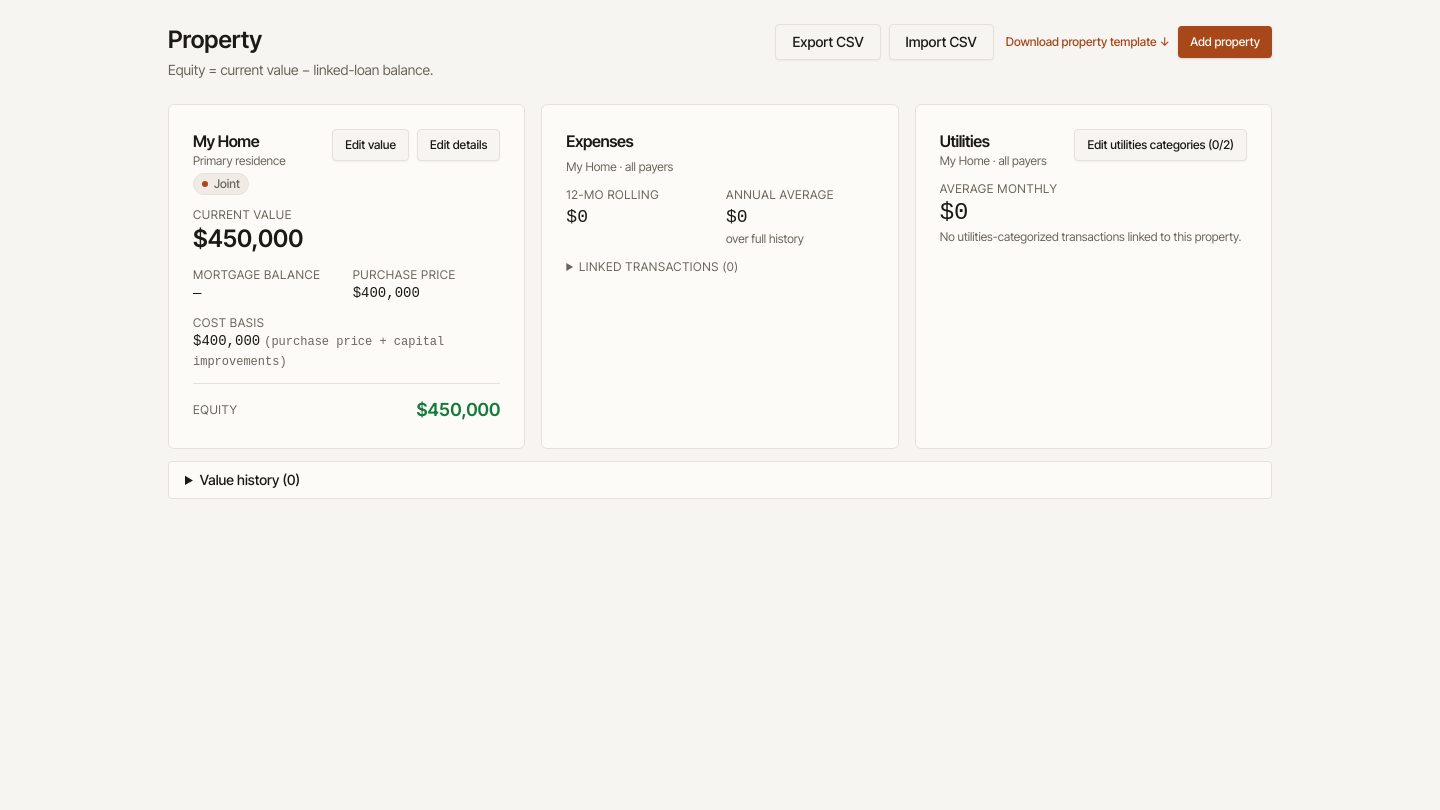
it: Property page — utilities card with configurable category set › renders an inline picker that opens an inline popover with utilities categories
Click the button "Edit utilities categories (0/2)" at (1161,145), box x1=1074 y1=129 x2=1247 y2=161
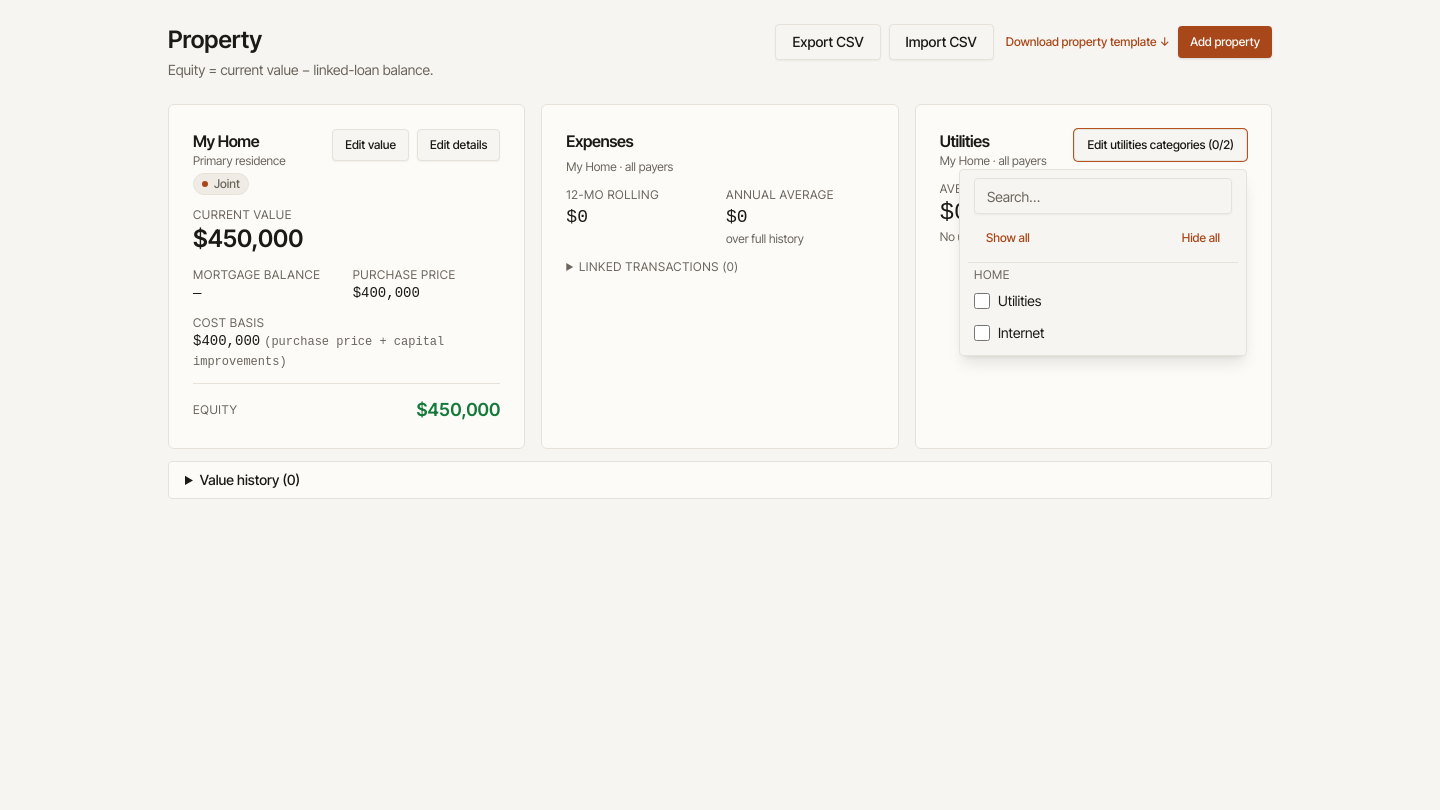
Result: the dialog is shown at x1=959 y1=169 x2=1247 y2=356
Result: the checkbox labelled "Utilities" is shown at x1=974 y1=293 x2=990 y2=309
